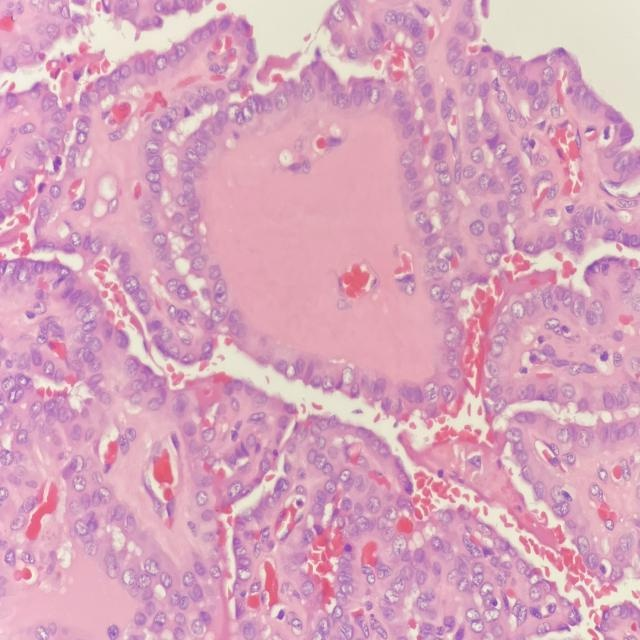TC: (430, 319, 477, 356), (268, 77, 290, 128), (204, 297, 232, 333), (179, 138, 206, 174), (96, 189, 127, 220), (70, 301, 102, 331), (117, 268, 143, 301), (433, 381, 462, 410), (184, 249, 212, 279), (11, 113, 38, 144), (364, 75, 388, 109), (462, 140, 490, 169), (475, 247, 502, 277), (339, 360, 359, 398), (68, 112, 96, 138), (136, 136, 165, 161), (388, 85, 412, 115), (148, 226, 173, 254), (393, 144, 424, 166), (464, 215, 488, 243), (433, 165, 459, 189), (421, 282, 447, 306), (299, 75, 317, 109), (142, 116, 170, 136), (164, 273, 184, 298), (67, 226, 87, 251), (244, 89, 260, 118), (48, 177, 65, 203)
